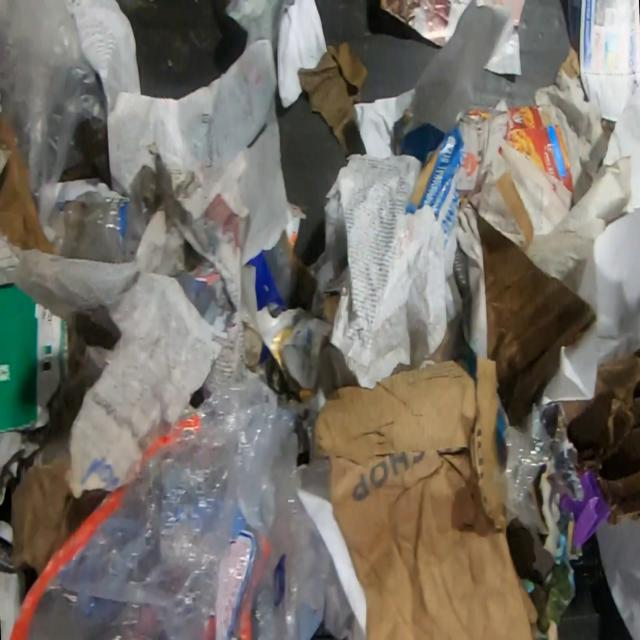cardboard: (474, 204, 598, 427), (561, 347, 640, 527), (469, 106, 572, 197)
soft_plastic: (7, 362, 366, 639), (0, 0, 109, 243), (62, 198, 148, 265), (505, 405, 552, 522)
